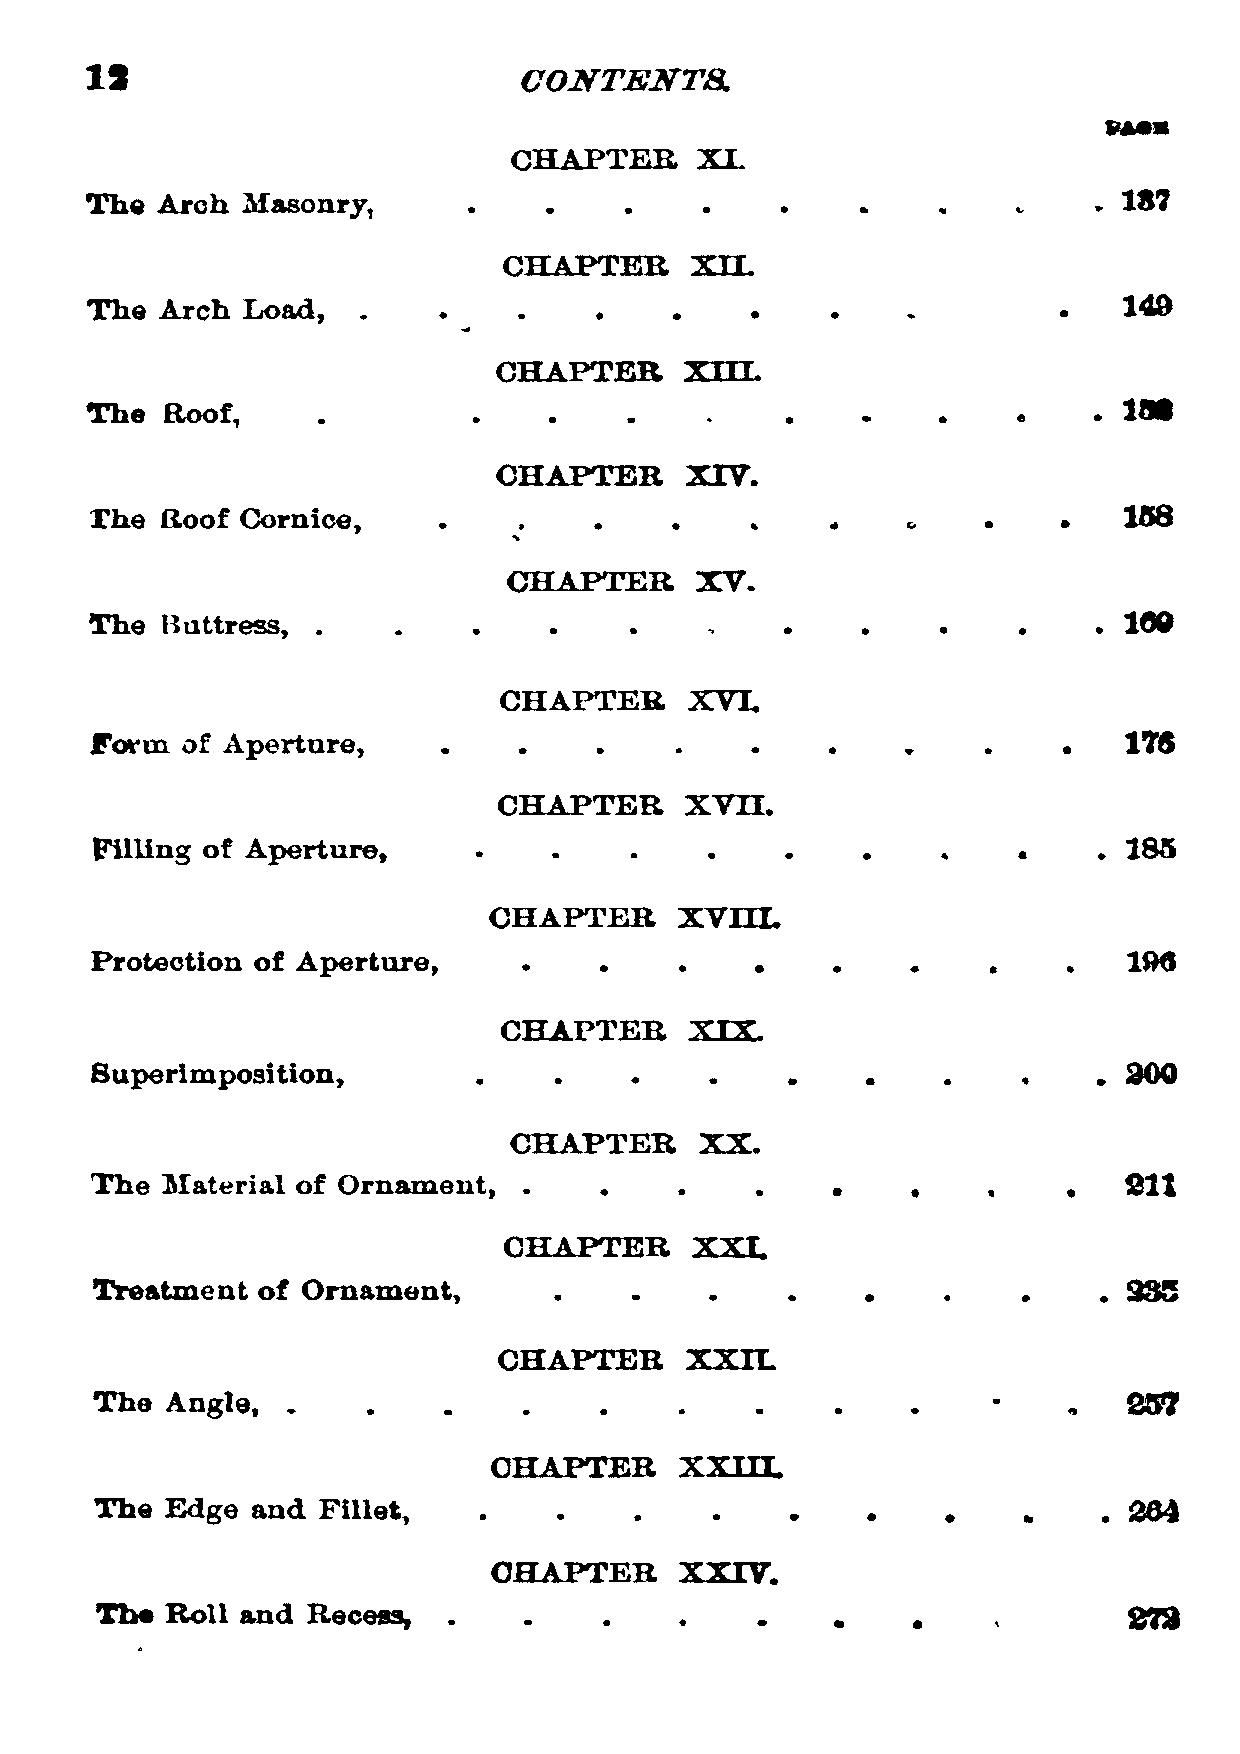TOC_chapter: (82, 1157, 491, 1210), (82, 1264, 464, 1318), (89, 819, 403, 878), (82, 939, 436, 989), (82, 1491, 416, 1539), (76, 1589, 415, 1635), (85, 715, 372, 769), (488, 1335, 781, 1388), (86, 497, 365, 550), (72, 180, 381, 228), (501, 1223, 780, 1274), (86, 1047, 349, 1100), (494, 1122, 777, 1170), (72, 280, 333, 333), (484, 1449, 789, 1494), (497, 1008, 776, 1056), (494, 244, 768, 293), (491, 1547, 786, 1592), (497, 679, 765, 727), (497, 132, 752, 180), (482, 900, 793, 939), (494, 348, 766, 392), (488, 786, 778, 827), (498, 564, 765, 605), (484, 459, 768, 497), (82, 601, 294, 651), (81, 1376, 267, 1424), (75, 384, 246, 433)
TOC_pagenumber: (1117, 1164, 1182, 1213), (1121, 1051, 1188, 1099), (1117, 170, 1177, 221), (1121, 283, 1180, 331), (1121, 1270, 1190, 1310), (1123, 1491, 1188, 1533), (1118, 493, 1180, 534), (1121, 599, 1180, 641), (1125, 827, 1184, 870), (1117, 393, 1180, 431), (1123, 1602, 1190, 1637), (1118, 1384, 1180, 1421), (1121, 722, 1178, 758), (1125, 943, 1180, 980)
chapter: (513, 59, 738, 98)
